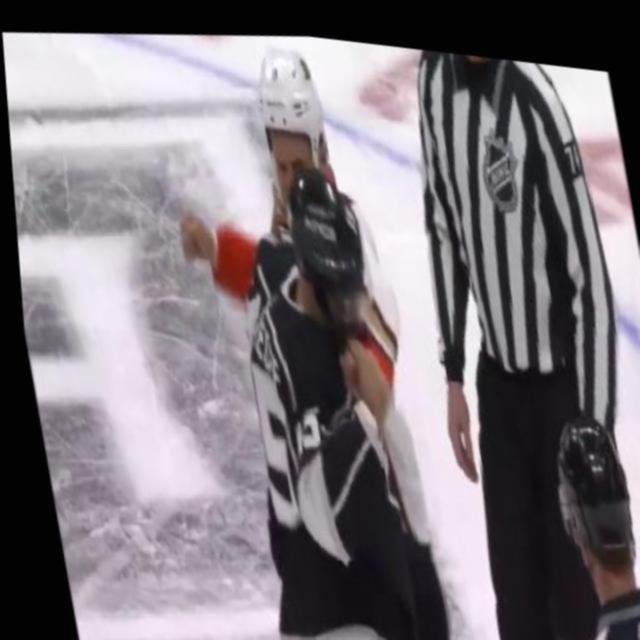fight: (142, 13, 457, 640)
